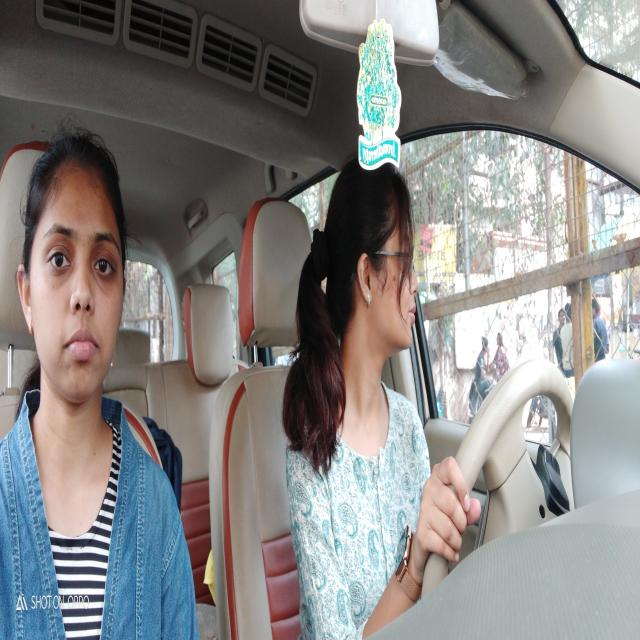LeftRight: (338, 160, 425, 360)
person: (16, 112, 131, 415)
